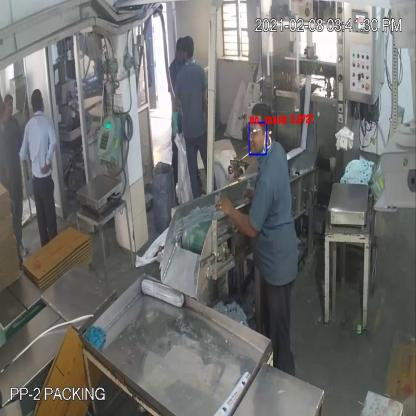no_glove: (213, 186, 262, 242)
